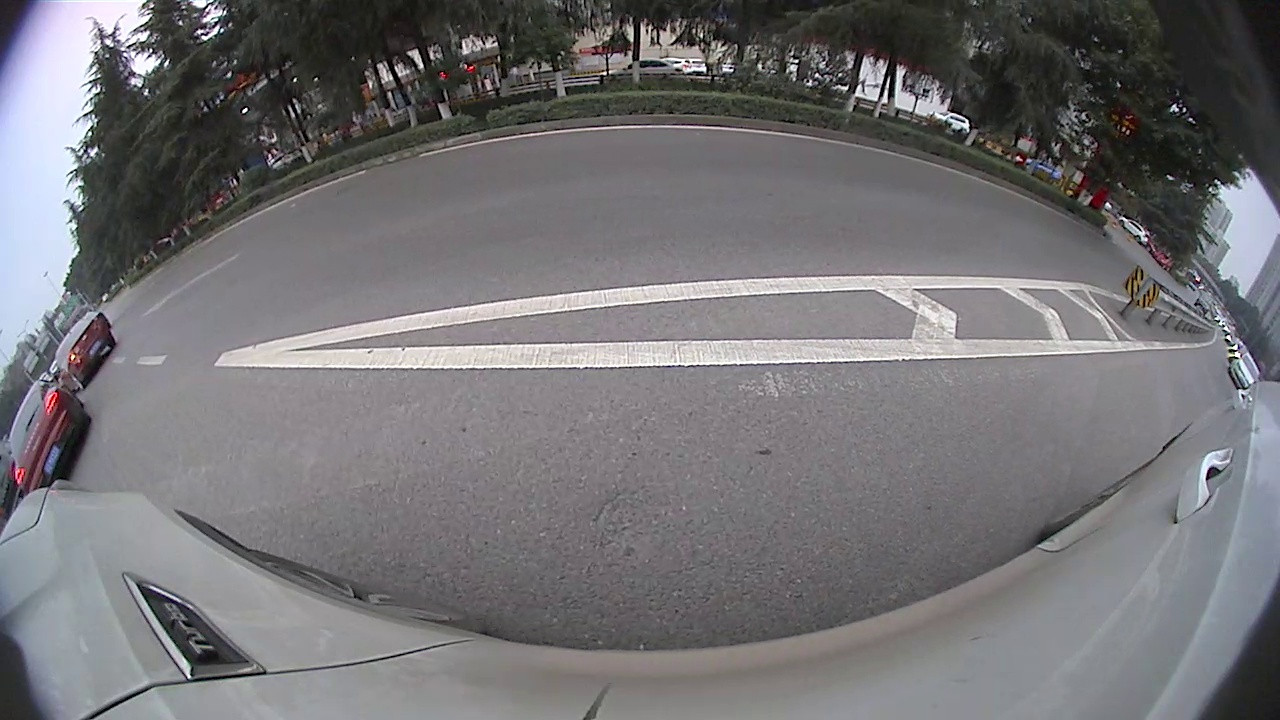car: (10, 381, 92, 507), (56, 312, 119, 391)
rear: (70, 374, 85, 391)
